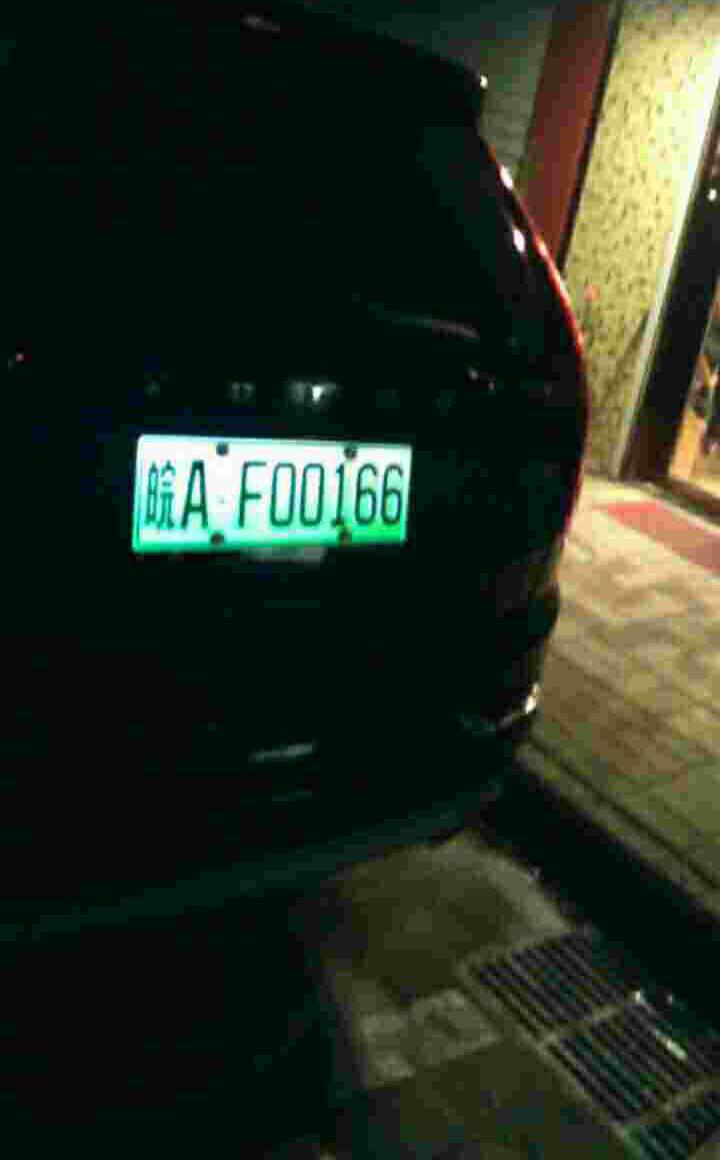car_id: (132, 430, 414, 551)
